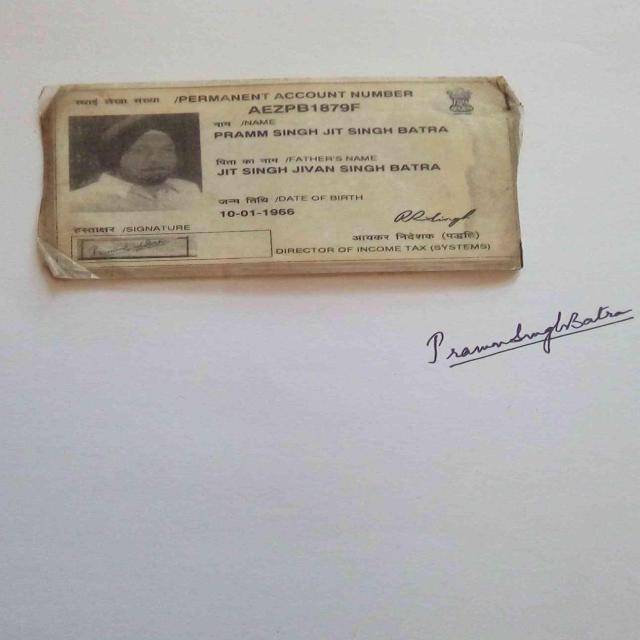pan_card: (53, 82, 512, 265)
